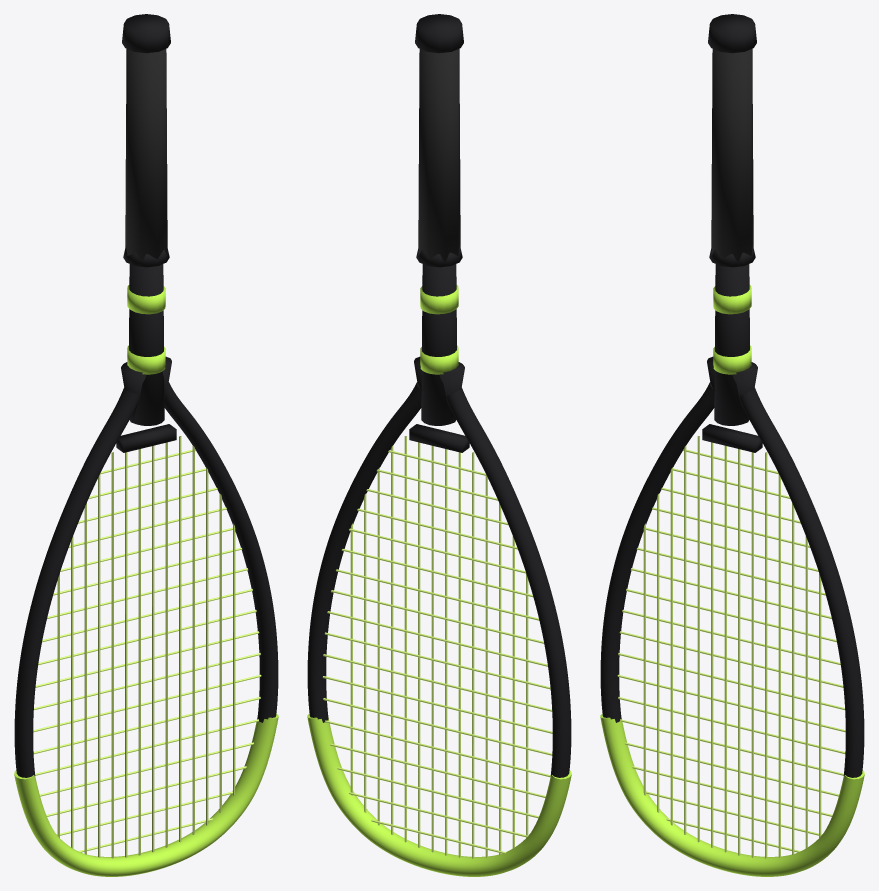
File: racket.glb
The picture shows the model from 3 angles, left to right: view 1: azimuth 30°, elevation 25°; view 2: azimuth 150°, elevation 25°; view 3: azimuth 330°, elevation 25°; orthographic projection.
Parts seen in each view (by area): view 1: Racket; view 2: Racket; view 3: Racket.
Boxes of the visible parts, x1,y1,x2,y2 form: Racket: [14, 14, 278, 876]; Racket: [307, 14, 571, 876]; Racket: [600, 14, 864, 876].
Bounding box in the file's own units: 0.2261 × 0.7025 × 0.037.
